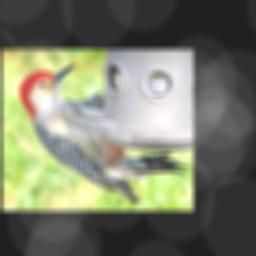Woodpecker: (19, 65, 189, 204)
